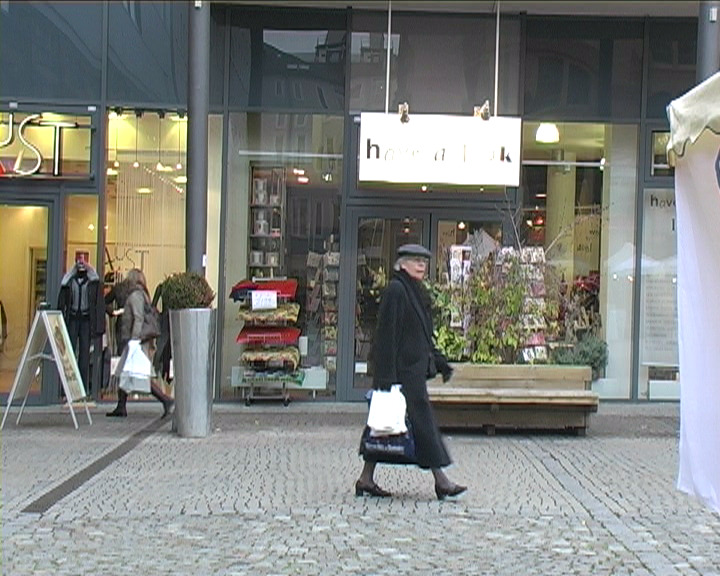deflection: (379, 244, 447, 368)
